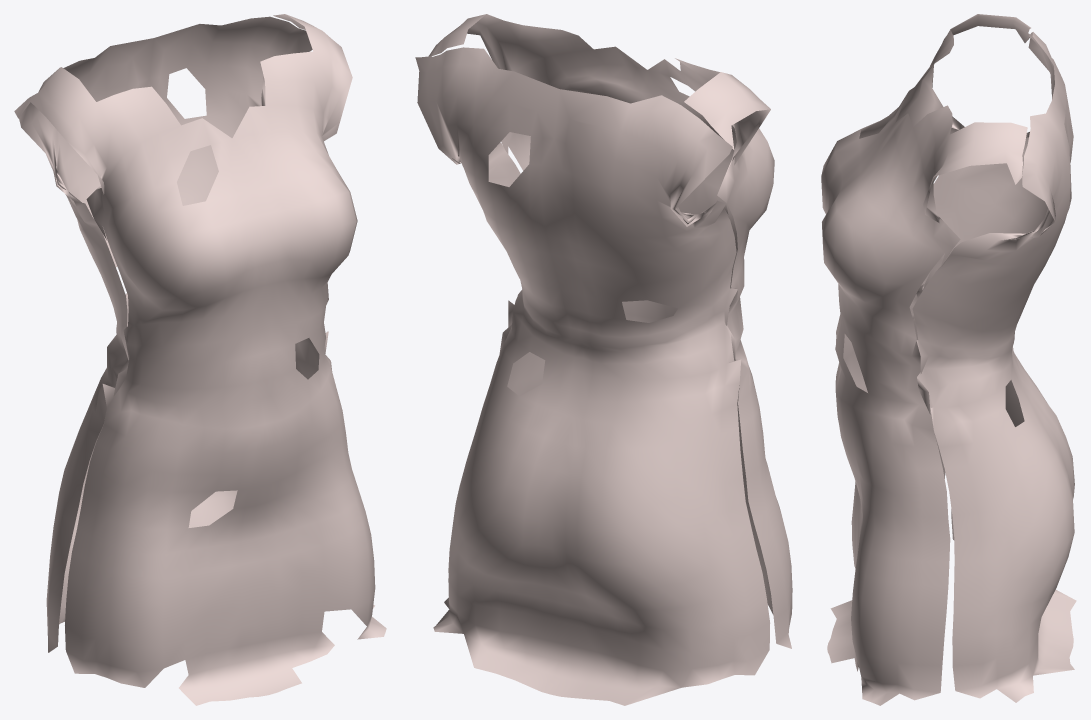
File: Pri_Dress.glb
The picture shows the model from 3 angles, left to right: view 1: azimuth 30°, elevation 25°; view 2: azimuth 150°, elevation 25°; view 3: azimuth 270°, elevation 25°; orthographic projection. The views are drawn at different scales.
Parts seen in each view (by area): view 1: Prison_Dress; view 2: Prison_Dress; view 3: Prison_Dress.
Part boxes in pixels (<box>): Prison_Dress: <box>14,14,386,705</box>; Prison_Dress: <box>415,14,792,705</box>; Prison_Dress: <box>821,14,1076,705</box>.
Bounding box in the file's own units: 0.407 × 0.7475 × 0.299.
